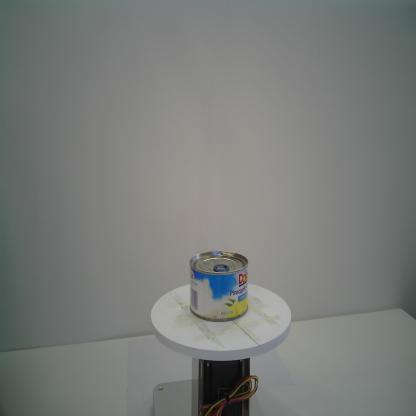Canned Food: (188, 249, 250, 324)
